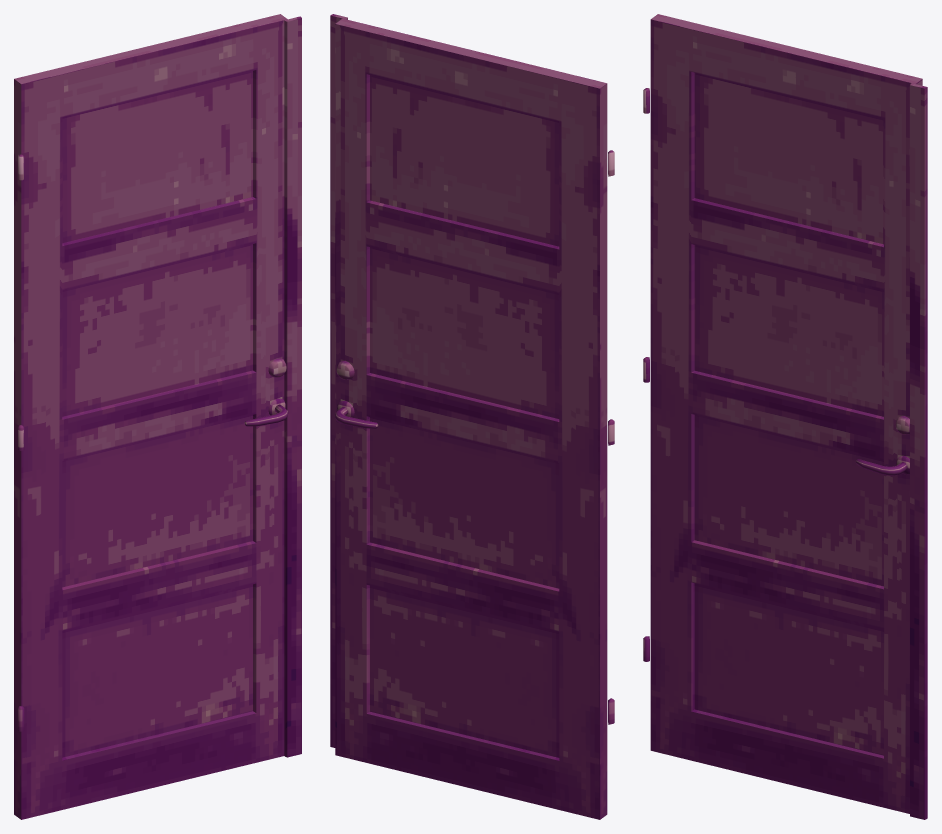
File: door_right.glb
3 renders of one model, left to right at view 1: azimuth 30°, elevation 25°; view 2: azimuth 150°, elevation 25°; view 3: azimuth 330°, elevation 25°, orthographic.
Parts seen in each view (by area): view 1: Object_8.004; view 2: Object_8.004; view 3: Object_8.004.
Part boxes in pixels (x1,y1,x2,y2): Object_8.004: (14, 14, 301, 819); Object_8.004: (330, 14, 614, 819); Object_8.004: (643, 14, 927, 819).
Bounding box in the file's own units: 1.25 × 3.09 × 0.248.
Materials: 2 (2 with a texture image).
